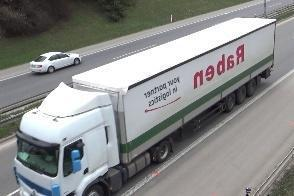Car: (30, 51, 82, 74)
Truck: (14, 19, 276, 196)
